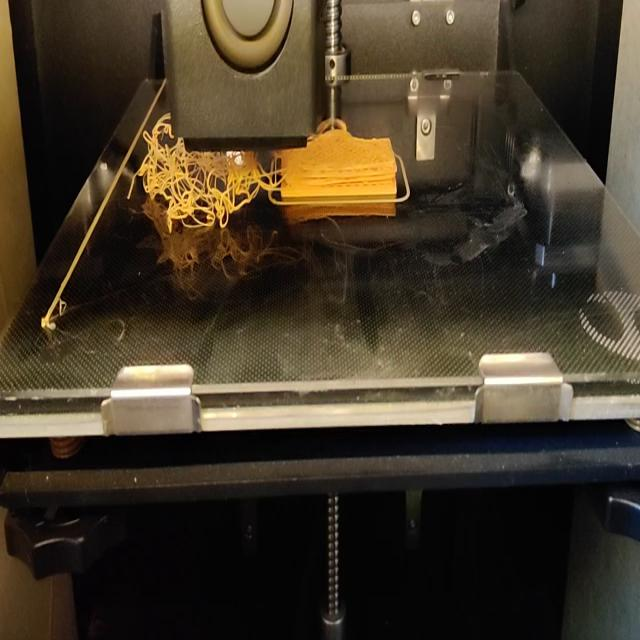spaghetti: (191, 148, 267, 228), (132, 112, 172, 229), (172, 138, 192, 234)
